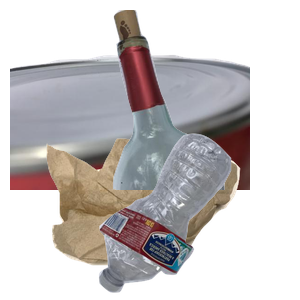glass: (89, 10, 300, 190)
metal: (10, 52, 250, 232)
plastic: (96, 131, 300, 300)
trash: (44, 136, 277, 300)
